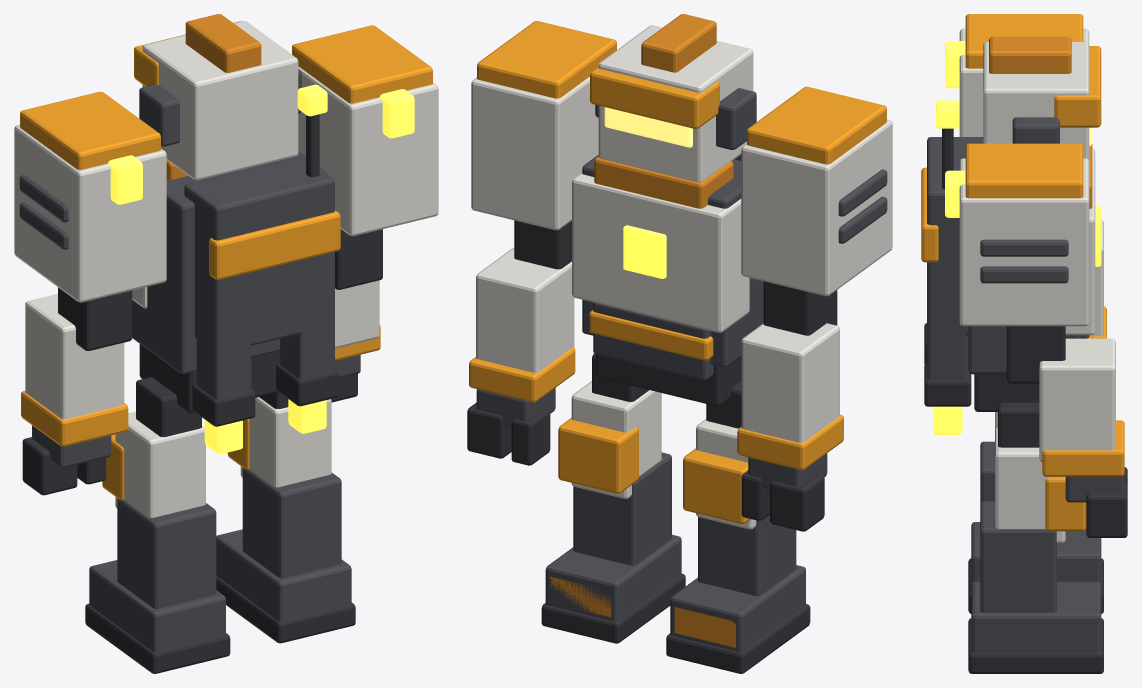
The model's file is voxel_robot.glb.
3 views of the same model, side by side, from view 1: azimuth 30°, elevation 25°; view 2: azimuth 150°, elevation 25°; view 3: azimuth 270°, elevation 25° (orthographic). The views are drawn at different scales.
Visible parts, largest first — view 1: Backpack_Core, Shoulder_Pod_L, Head_Core, Shoulder_Pod_R, Shin_R, Shin_L, Forearm_L, Torso_Frame, Shoulder_Top_L, Shoulder_Top_R, Thigh_L, Boot_L (+29 smaller); view 2: Chest_Armor_Main, Shoulder_Pod_L, Shoulder_Pod_R, Forearm_L, Forearm_R, Head_Core, Shin_R, Shoulder_Top_L, Shoulder_Top_R, Boot_R, Shin_L, Boot_L (+32 smaller); view 3: Shoulder_Pod_R, Forearm_R, Boot_R, Shin_R, Shoulder_Top_R, Head_Core, Backpack_Core, Thigh_R, Shoulder_Top_L, Head_Crest, Boot_Sole_R, UpperArm_R (+26 smaller).
Boxes of the visible parts, x1,y1,x2,y2 form: Backpack_Core: (184,156,334,351); Shoulder_Pod_L: (14,124,166,302); Head_Core: (142,21,298,180); Shoulder_Pod_R: (298,66,438,236); Shin_R: (242,468,341,578); Shin_L: (117,498,216,608); Forearm_L: (25,294,124,419); Torso_Frame: (132,151,326,374); Shoulder_Top_L: (20,91,160,169); Shoulder_Top_R: (292,25,432,103); Thigh_L: (115,411,205,517); Boot_L: (89,560,225,651); Chest_Armor_Main: (572,172,749,332); Shoulder_Pod_L: (741,119,892,296); Shoulder_Pod_R: (471,77,598,230); Forearm_L: (741,323,839,442); Forearm_R: (476,248,574,372); Head_Core: (598,25,753,182); Shin_R: (573,452,671,565); Shoulder_Top_L: (747,86,886,164); Shoulder_Top_R: (477,21,616,98); Boot_R: (545,534,681,621); Shin_L: (698,514,796,596); Boot_L: (670,565,805,651); Shoulder_Pod_R: (959,158,1089,326); Forearm_R: (1039,338,1115,461); Boot_R: (971,581,1101,652); Shin_R: (980,501,1056,612); Shoulder_Top_R: (965,143,1083,198); Head_Core: (983,41,1089,160); Backpack_Core: (927,137,983,335); Thigh_R: (995,428,1065,543); Shoulder_Top_L: (965,14,1083,68); Head_Crest: (989,36,1071,73); Boot_Sole_R: (968,618,1103,673); UpperArm_R: (1006,326,1065,383).
Size of the model in its own units: 1.42 by 2.18 by 0.7.
